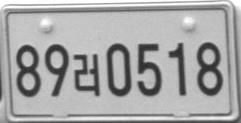0: (105, 42, 131, 97)
1: (166, 42, 192, 96)
5: (136, 43, 162, 96)
8: (195, 41, 224, 97), (15, 43, 41, 98)
9: (43, 42, 69, 97)
러: (73, 53, 100, 95)
